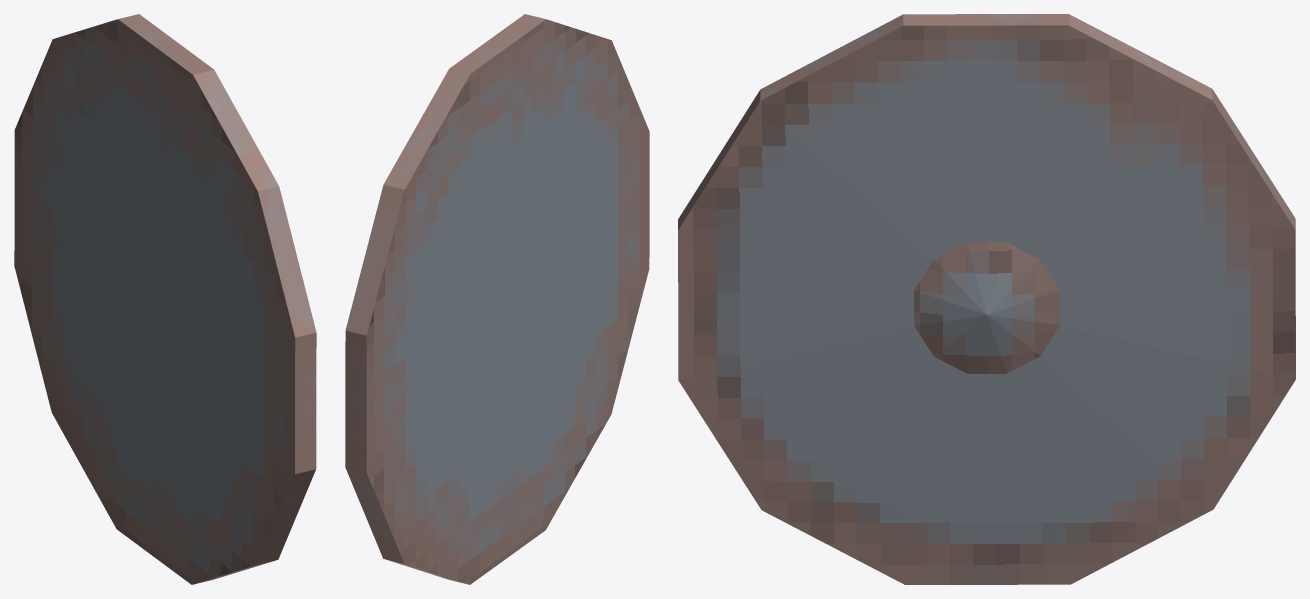
The model's file is roundShield 1.fbx.
3 views of the same model, side by side, from view 1: azimuth 30°, elevation 25°; view 2: azimuth 150°, elevation 25°; view 3: azimuth 270°, elevation 25° (orthographic). The views are drawn at different scales.
Visible parts, largest first — view 1: Cylinder; view 2: Cylinder; view 3: Cylinder.
Part boxes in pixels (<box>): Cylinder: <box>14,14,316,584</box>; Cylinder: <box>345,14,649,584</box>; Cylinder: <box>678,14,1295,584</box>.
Size of the model in its own units: 116 by 9.46 by 116.
